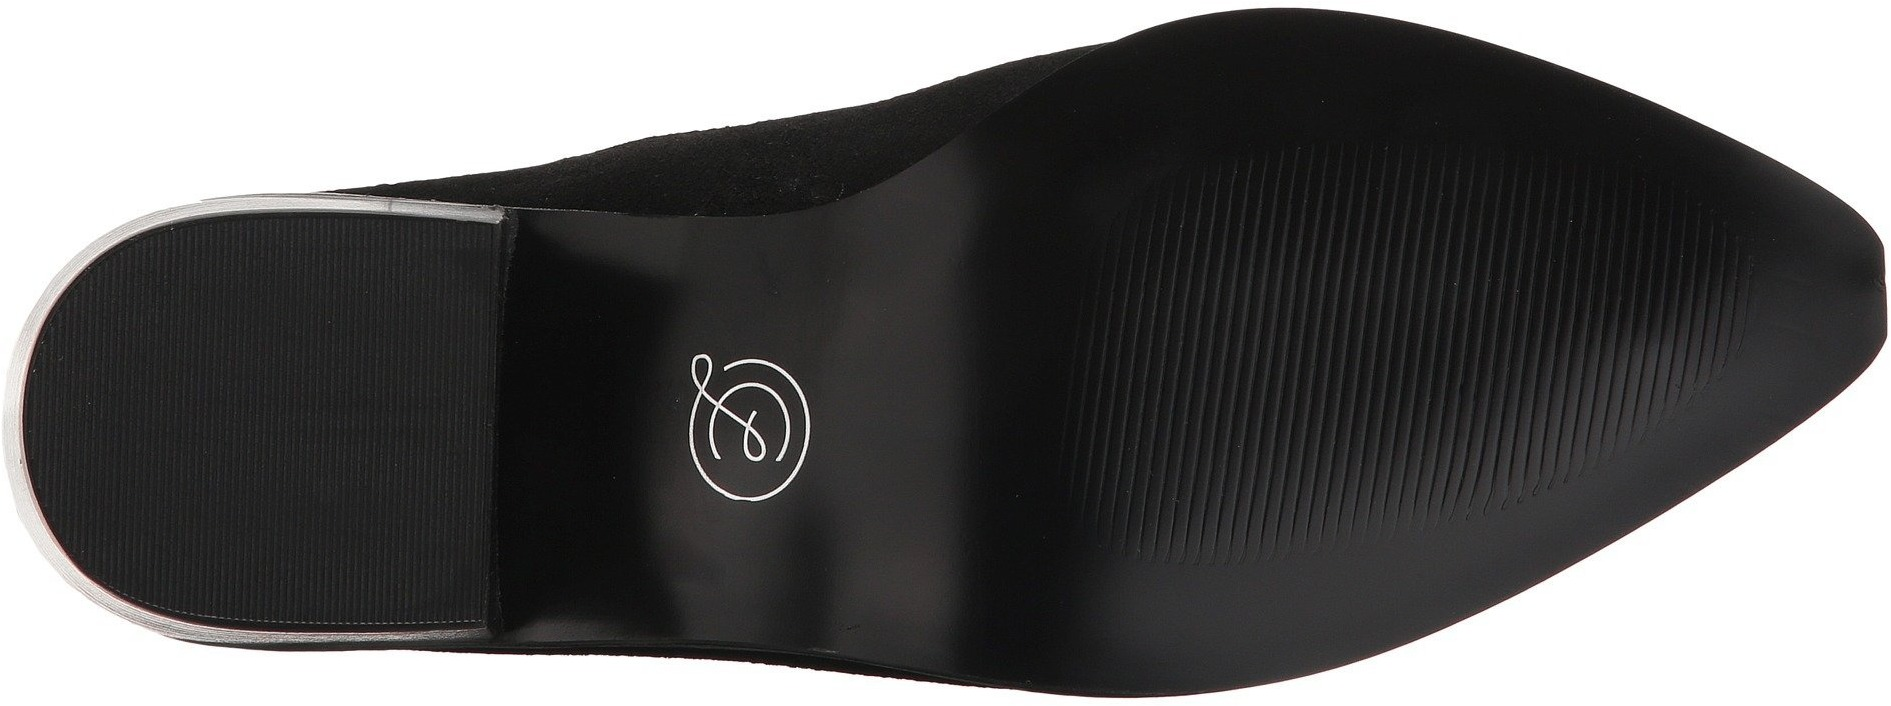exclude: (428, 574, 589, 693)
other: (1055, 220, 1394, 526), (105, 290, 356, 531), (1407, 176, 1643, 425), (353, 235, 487, 375), (1190, 27, 1331, 147)
